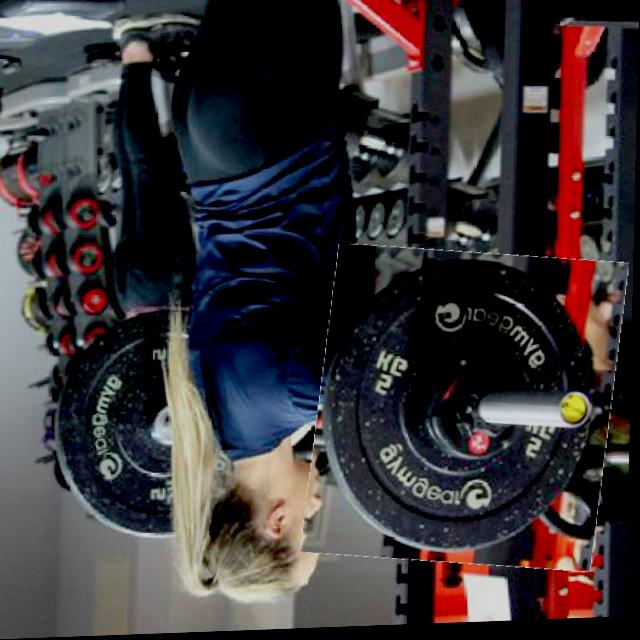barbell: (312, 247, 624, 579)
